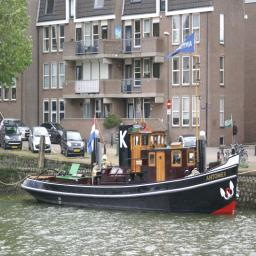tugboat: (19, 119, 239, 221)
